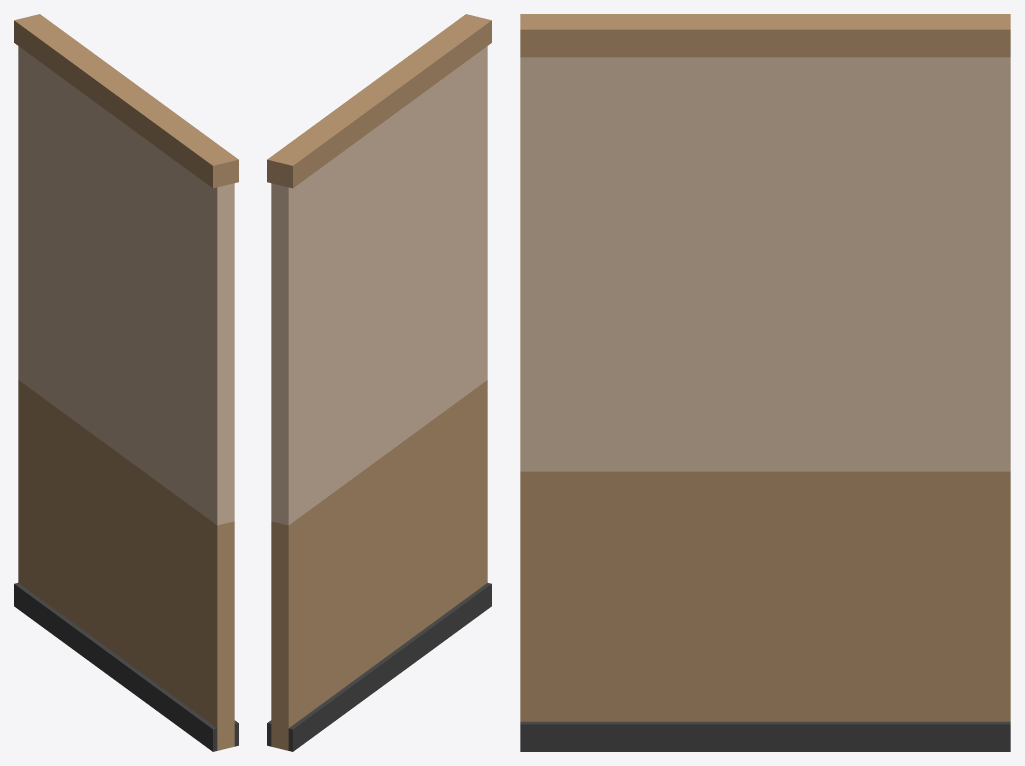
Rendered from wall_02_M.glb.
The picture shows the model from 3 angles, left to right: view 1: azimuth 30°, elevation 25°; view 2: azimuth 150°, elevation 25°; view 3: azimuth 270°, elevation 25°; orthographic projection. The views are drawn at different scales.
Visible parts, largest first — view 1: Untitled; view 2: Untitled; view 3: Untitled.
Boxes of the visible parts, box(x1,y1,x2,y2) form: Untitled: box(14, 14, 238, 751); Untitled: box(267, 14, 491, 751); Untitled: box(520, 14, 1010, 751).
Size of the model in its own units: 0.18 by 3.9 by 2.4.
1 material, 1 textured.
